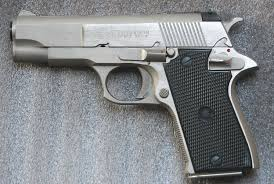Arma Real: (9, 9, 260, 174)
